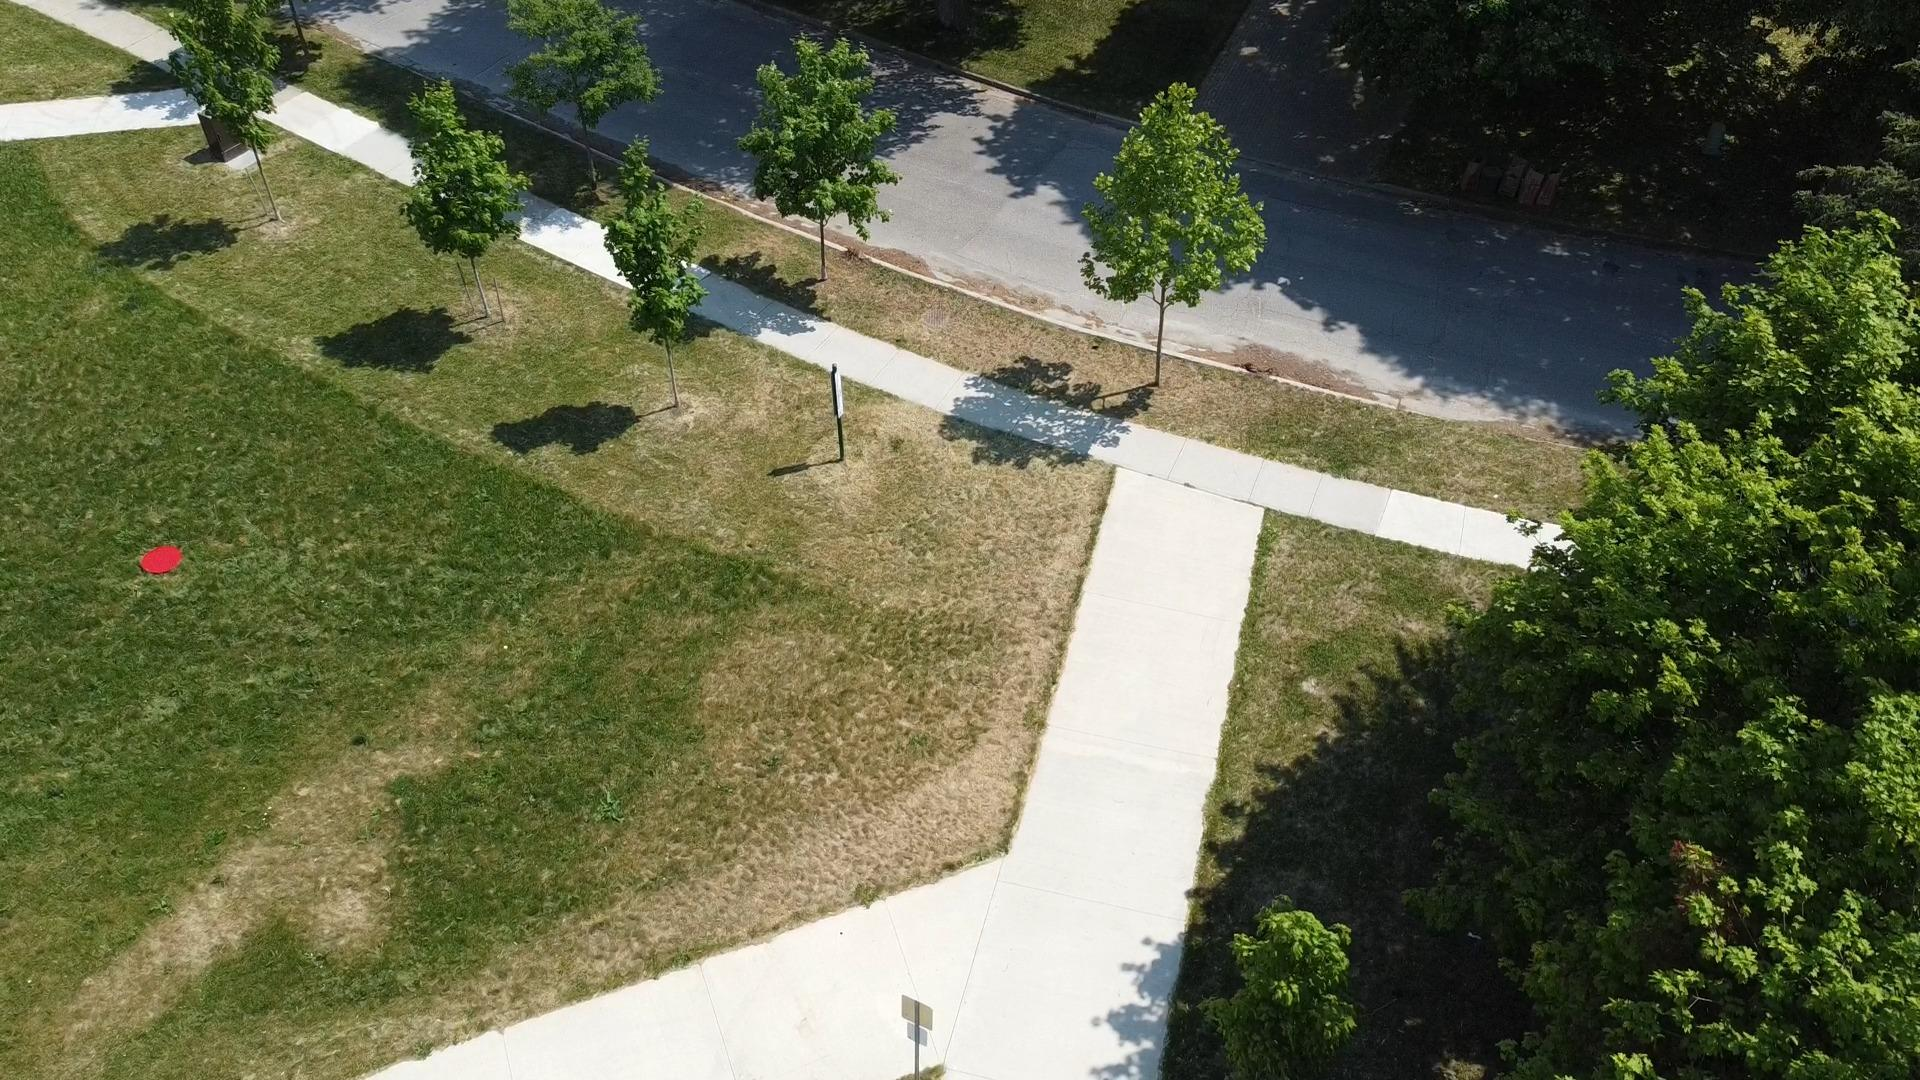Red: (140, 545, 183, 575)
